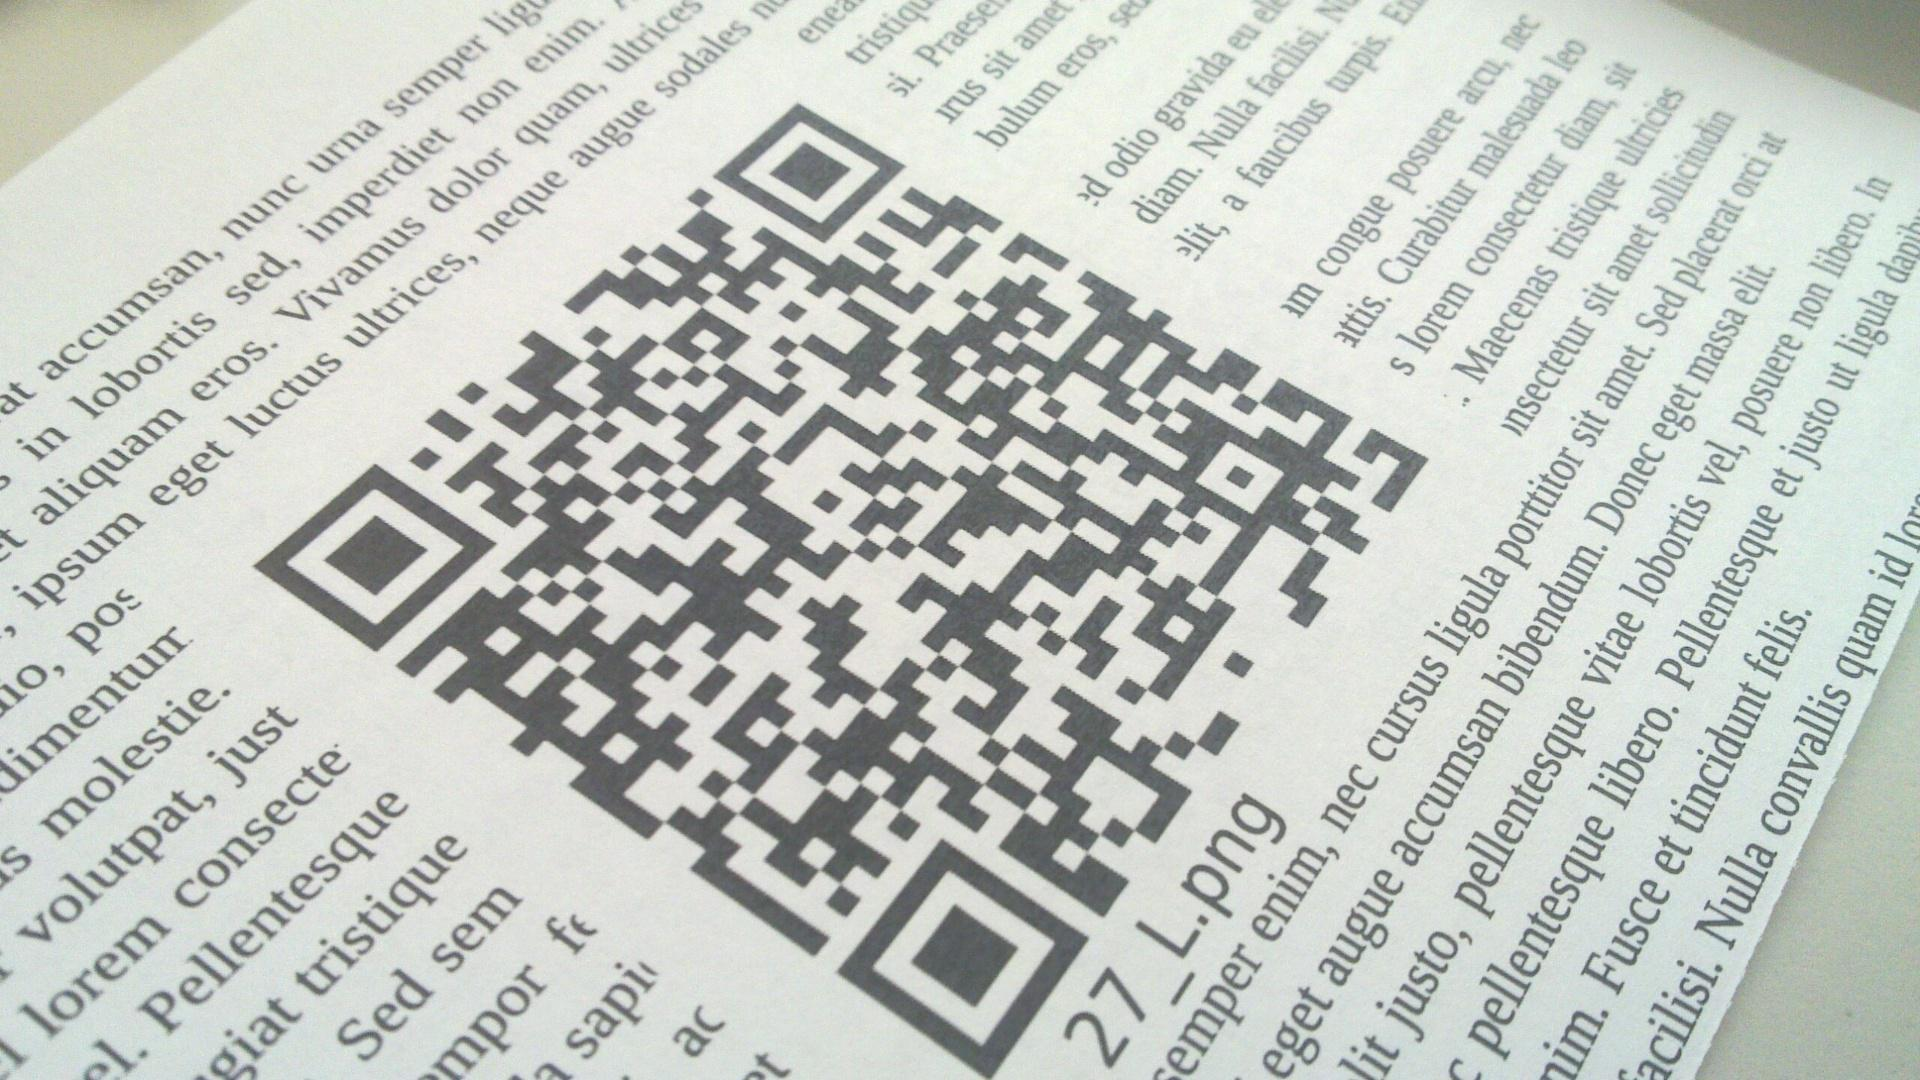Finder pattern: (829, 847, 1091, 1071), (251, 480, 500, 646), (705, 105, 903, 236)
